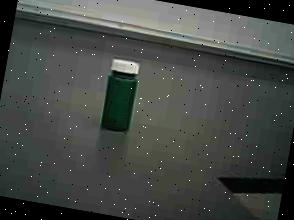Bottle C: (92, 50, 151, 138)
